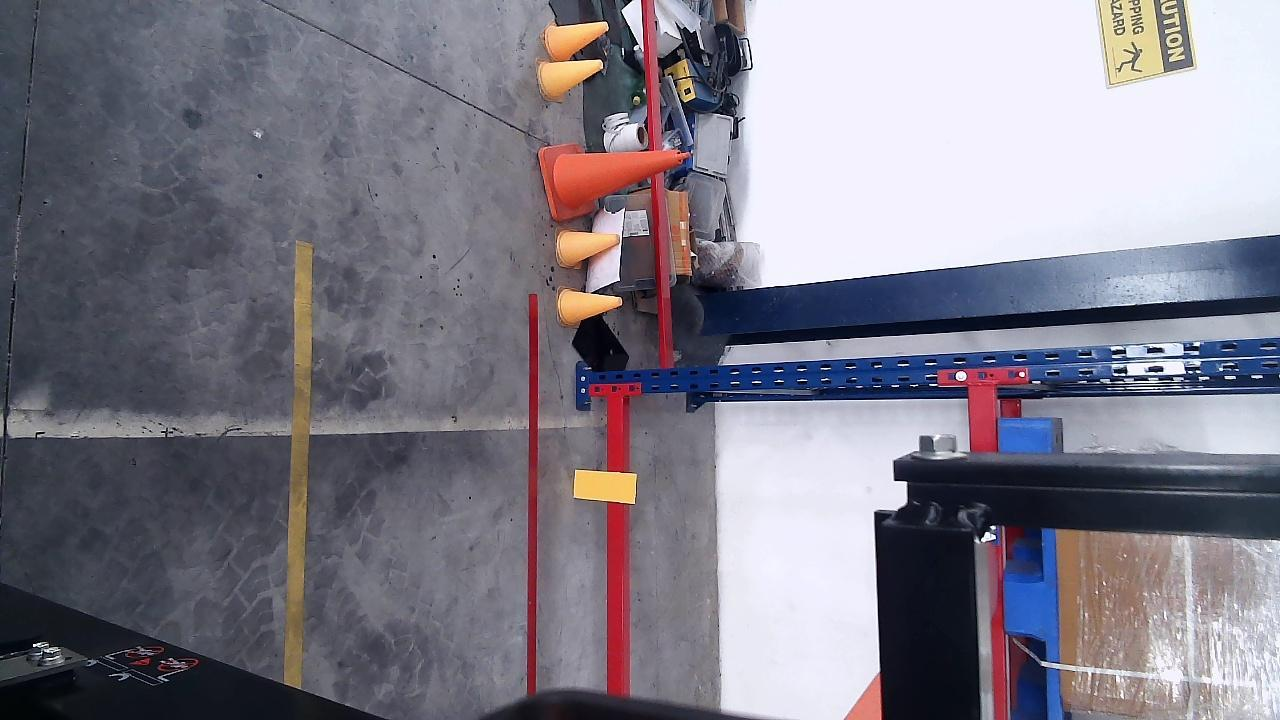h_rack: (606, 396, 624, 694)
orange_strip: (574, 471, 637, 503)
red_line: (529, 293, 538, 695)
small_pallet: (1004, 417, 1060, 719)
yellow_line: (284, 240, 314, 692)
